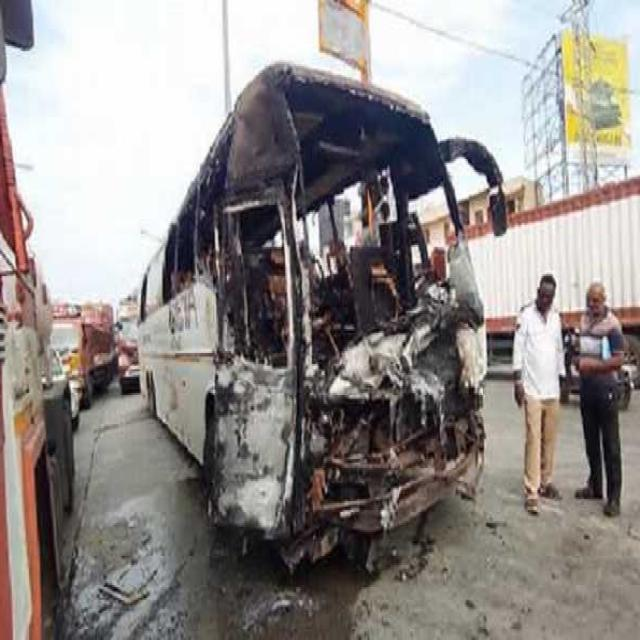accident: (139, 64, 506, 566)
car: (590, 0, 640, 173)
